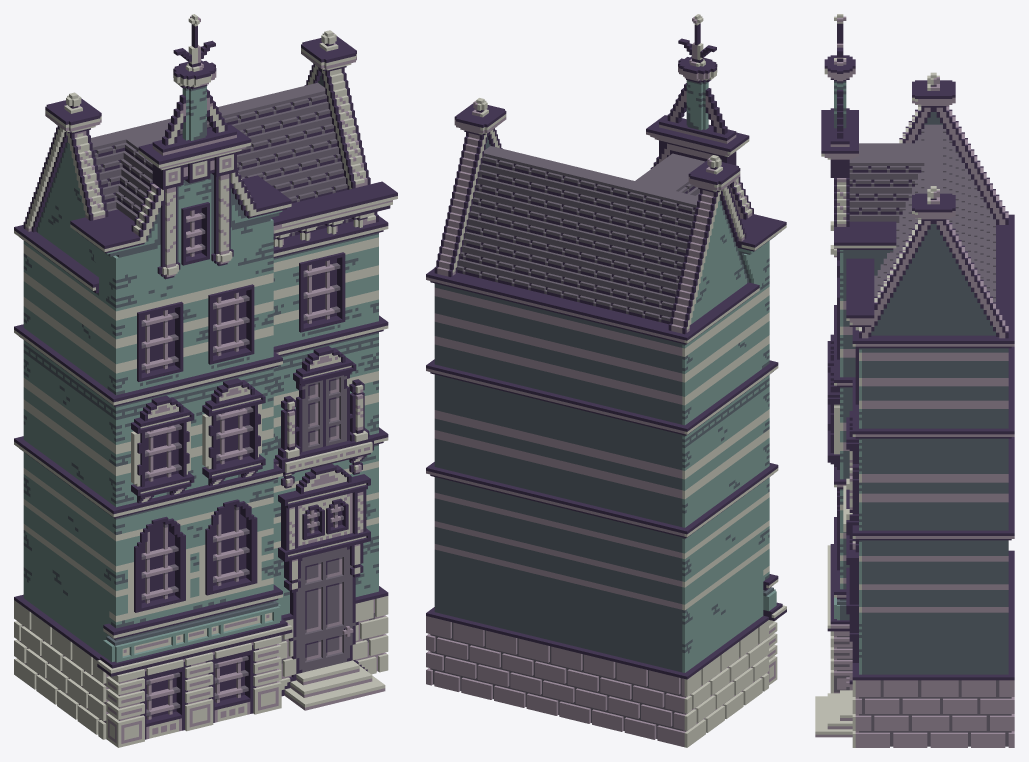
File: victorian-era-house.gltf
3 views of the same model, side by side, from view 1: azimuth 30°, elevation 25°; view 2: azimuth 150°, elevation 25°; view 3: azimuth 270°, elevation 25° (orthographic). The views are drawn at different scales.
Parts seen in each view (by area): view 1: Node; view 2: Node; view 3: Node.
Part boxes in pixels (bbox=[...]): Node: bbox=[14, 14, 397, 747]; Node: bbox=[426, 14, 786, 747]; Node: bbox=[815, 14, 1014, 747].
Size of the model in its own units: 10.1 by 22.8 by 6.4.
1 material, 1 textured.
